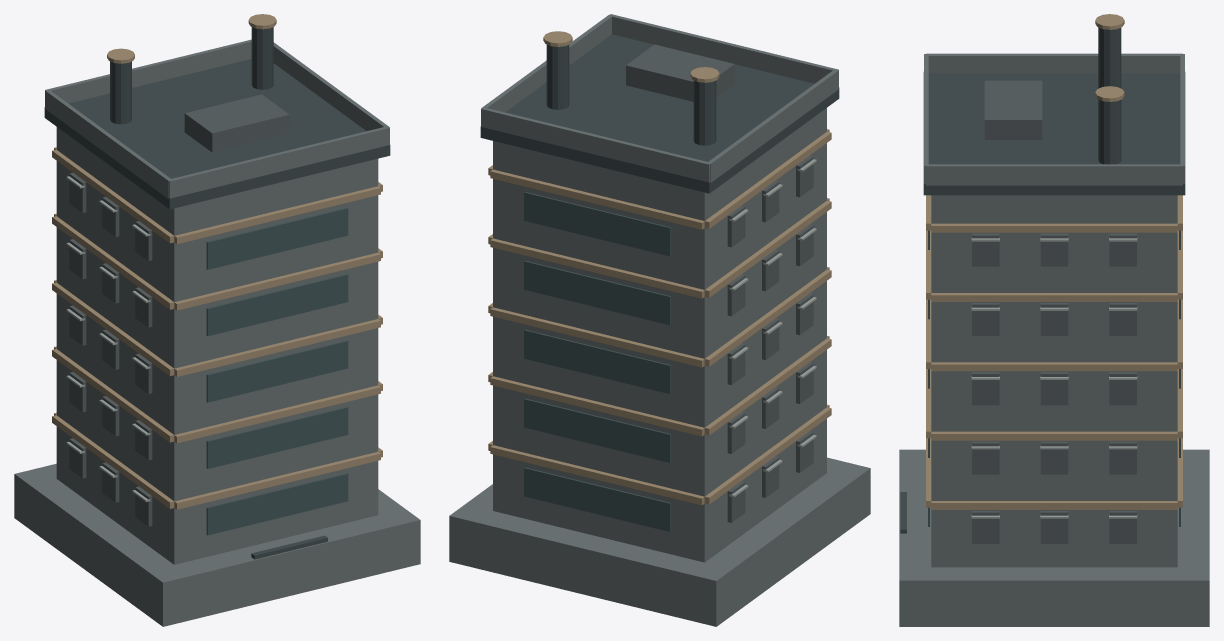
File: industrial_tower_a_lod0.glb
The picture shows the model from 3 angles, left to right: view 1: azimuth 30°, elevation 25°; view 2: azimuth 150°, elevation 25°; view 3: azimuth 270°, elevation 25°; orthographic projection. The views are drawn at different scales.
Parts seen in each view (by area): view 1: KIT_base, KIT_structure, KIT_windows, KIT_accent, KIT_equipment, KIT_trim; view 2: KIT_base, KIT_structure, KIT_windows, KIT_accent, KIT_equipment, KIT_trim; view 3: KIT_base, KIT_structure, KIT_equipment, KIT_accent, KIT_trim.
Part boxes in pixels (x1=…): KIT_base: x1=14, y1=39, x2=420, y2=626; KIT_structure: x1=44, y1=27, x2=390, y2=559; KIT_windows: x1=206, y1=207, x2=348, y2=535; KIT_accent: x1=52, y1=14, x2=382, y2=509; KIT_equipment: x1=69, y1=94, x2=289, y2=526; KIT_trim: x1=66, y1=176, x2=150, y2=501; KIT_base: x1=449, y1=14, x2=870, y2=626; KIT_structure: x1=480, y1=34, x2=839, y2=193; KIT_windows: x1=524, y1=192, x2=670, y2=531; KIT_accent: x1=488, y1=31, x2=831, y2=505; KIT_equipment: x1=626, y1=44, x2=813, y2=522; KIT_trim: x1=729, y1=159, x2=816, y2=497; KIT_base: x1=899, y1=53, x2=1209, y2=626; KIT_structure: x1=900, y1=27, x2=1185, y2=533; KIT_equipment: x1=972, y1=80, x2=1136, y2=543; KIT_accent: x1=926, y1=14, x2=1182, y2=509; KIT_trim: x1=971, y1=237, x2=1137, y2=518.
Bounding box in the file's own units: 14 × 25.17 × 14.
